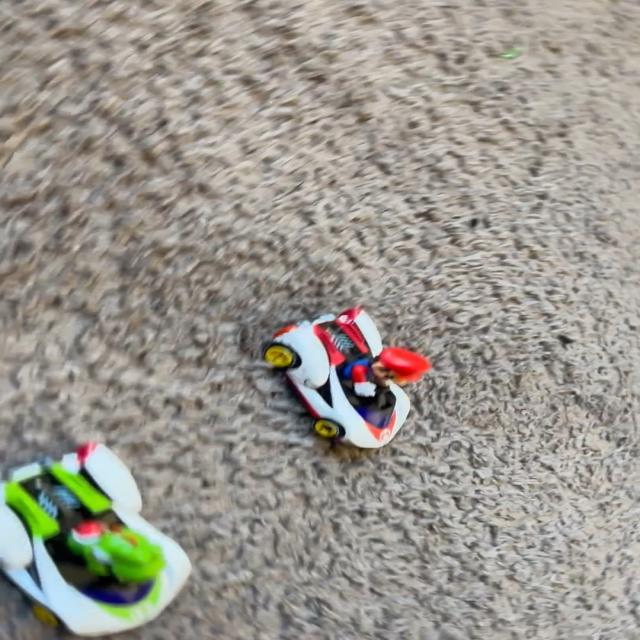mario: (242, 288, 438, 468)
yoshi: (1, 428, 206, 640)
